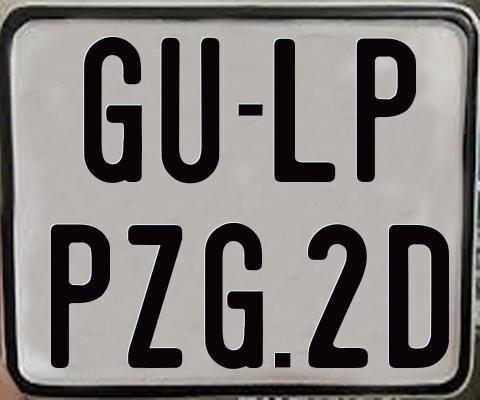2: (306, 222, 372, 367)
D: (387, 223, 451, 369)
G: (83, 34, 145, 186), (205, 222, 266, 372)
L: (274, 38, 336, 181)
P: (49, 223, 110, 373), (356, 35, 415, 185)
U: (158, 37, 221, 189)
Z: (126, 225, 181, 369)
